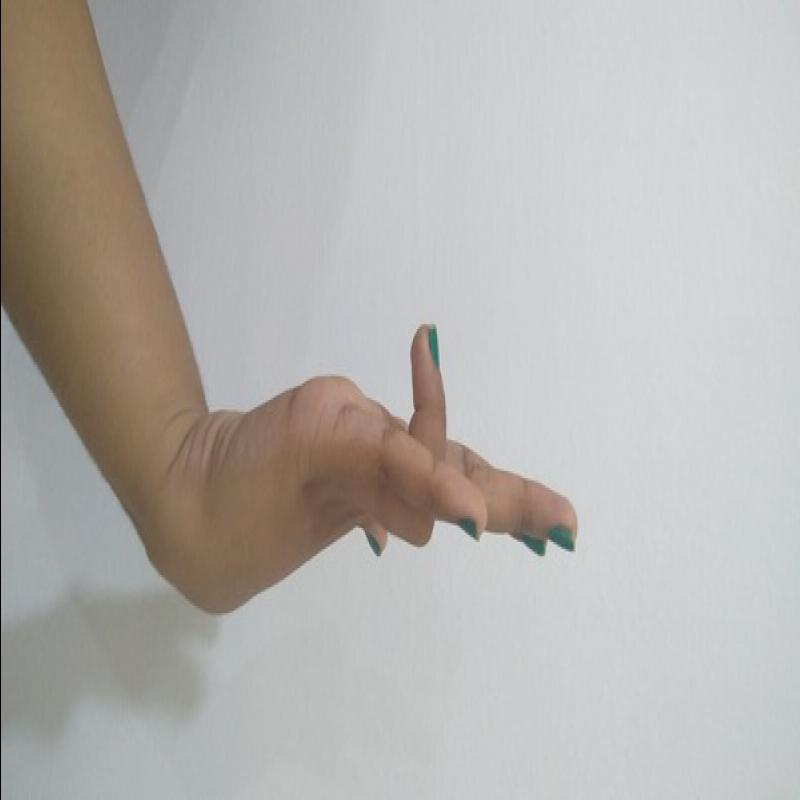Pathaaka: (195, 306, 585, 635)
